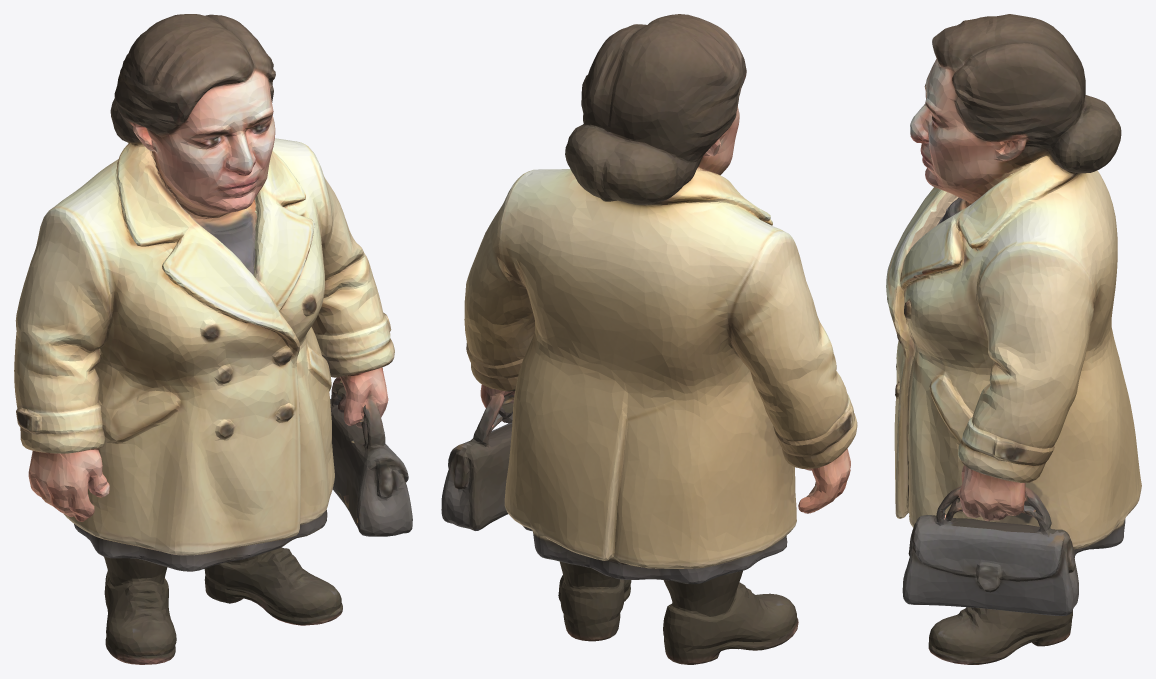
3 views of the same model, side by side, from view 1: azimuth 30°, elevation 25°; view 2: azimuth 150°, elevation 25°; view 3: azimuth 270°, elevation 25° (orthographic). The views are drawn at different scales.
Visible parts, largest first — view 1: figure; view 2: figure; view 3: figure.
Boxes of the visible parts, x1,y1,x2,y2 form: figure: (14, 14, 412, 664); figure: (441, 14, 857, 664); figure: (886, 14, 1141, 664).
Size of the model in its own units: 0.7765 by 1.2 by 0.4734.
1 material, 1 textured.
